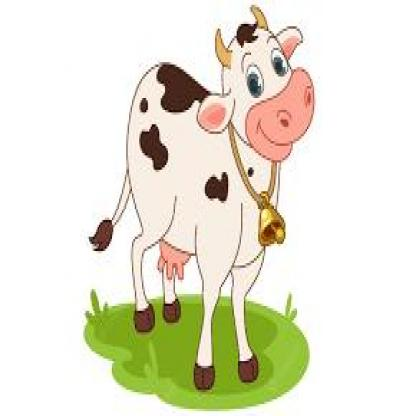cow: (87, 5, 316, 392)
